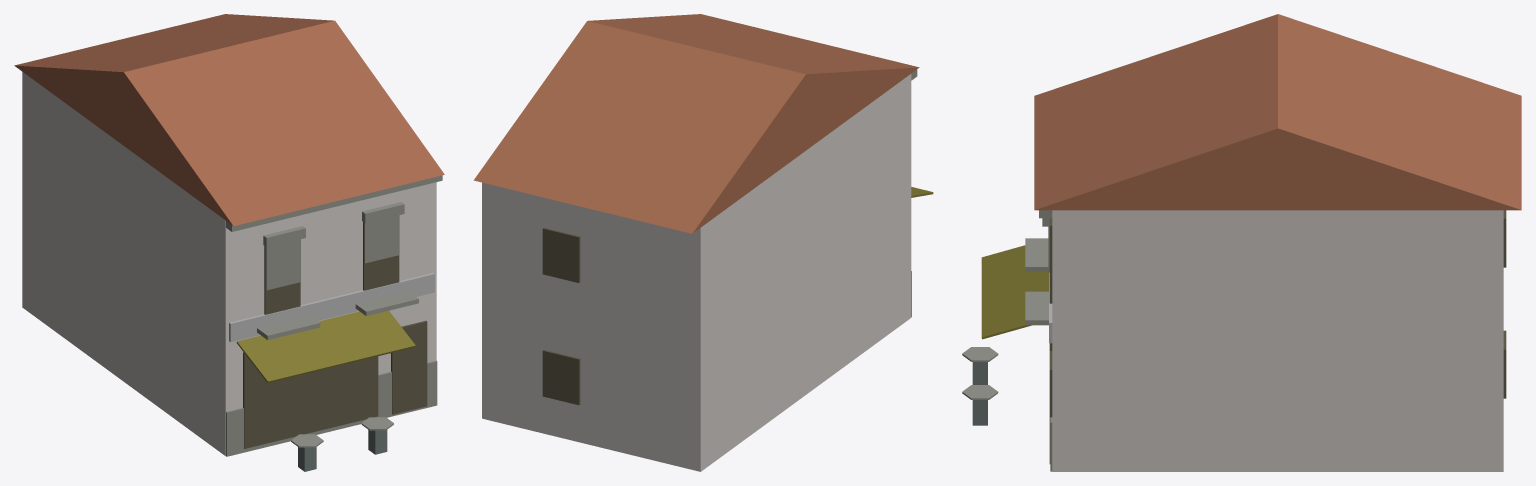
Rendered from SM_BajoComercial_v0_Bar_LOD1.fbx.
3 views of the same model, side by side, from view 1: azimuth 30°, elevation 25°; view 2: azimuth 150°, elevation 25°; view 3: azimuth 270°, elevation 25° (orthographic). The views are drawn at different scales.
Parts seen in each view (by area): view 1: SM_pueblo_valenciano_v5_LOD1; view 2: SM_pueblo_valenciano_v5_LOD1; view 3: SM_pueblo_valenciano_v5_LOD1.
Part boxes in pixels (x1=…): SM_pueblo_valenciano_v5_LOD1: x1=14, y1=14, x2=444, y2=471; SM_pueblo_valenciano_v5_LOD1: x1=473, y1=14, x2=933, y2=471; SM_pueblo_valenciano_v5_LOD1: x1=962, y1=14, x2=1521, y2=471.
Bounding box in the file's own units: 6 × 8.4 × 12.4.
